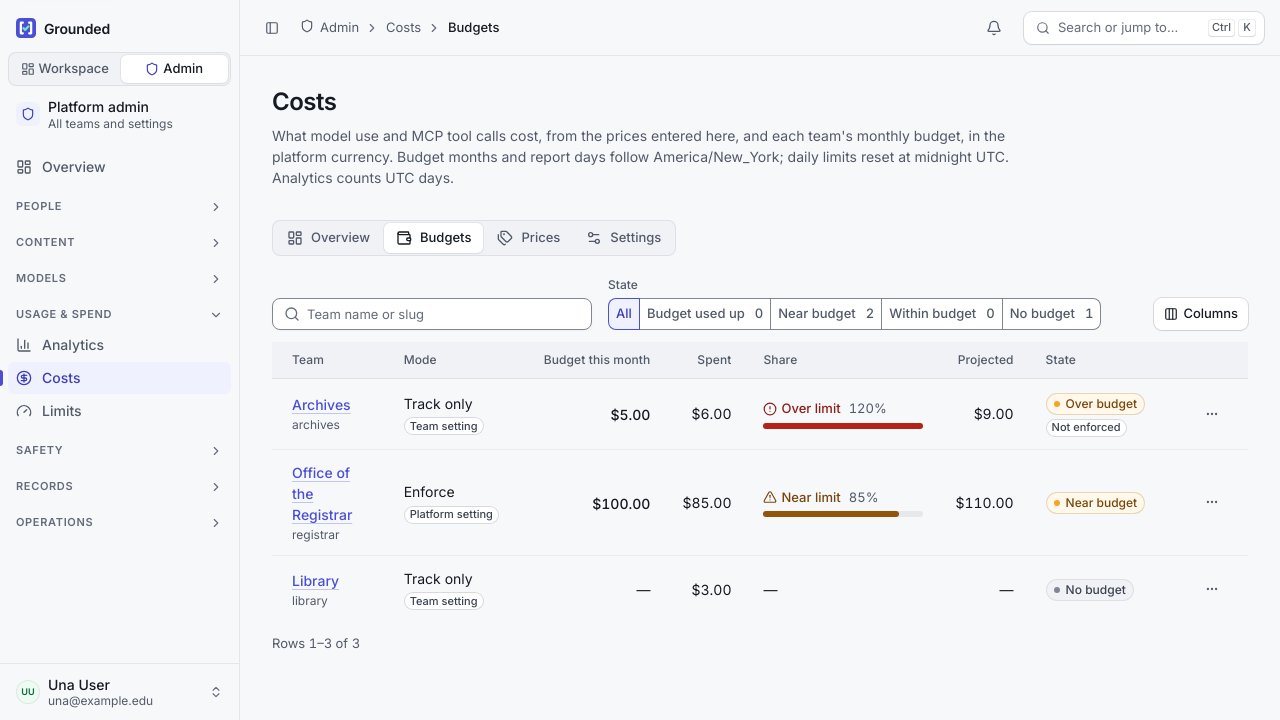
Test: Admin → Costs › changes a team's budget in place from its row, showing the platform default
The width and height of the screenshot is (1280, 720).
Step 1. Click the button named "Actions for Office of the Registrar" → (1212, 502), box [1196,486,1228,518]
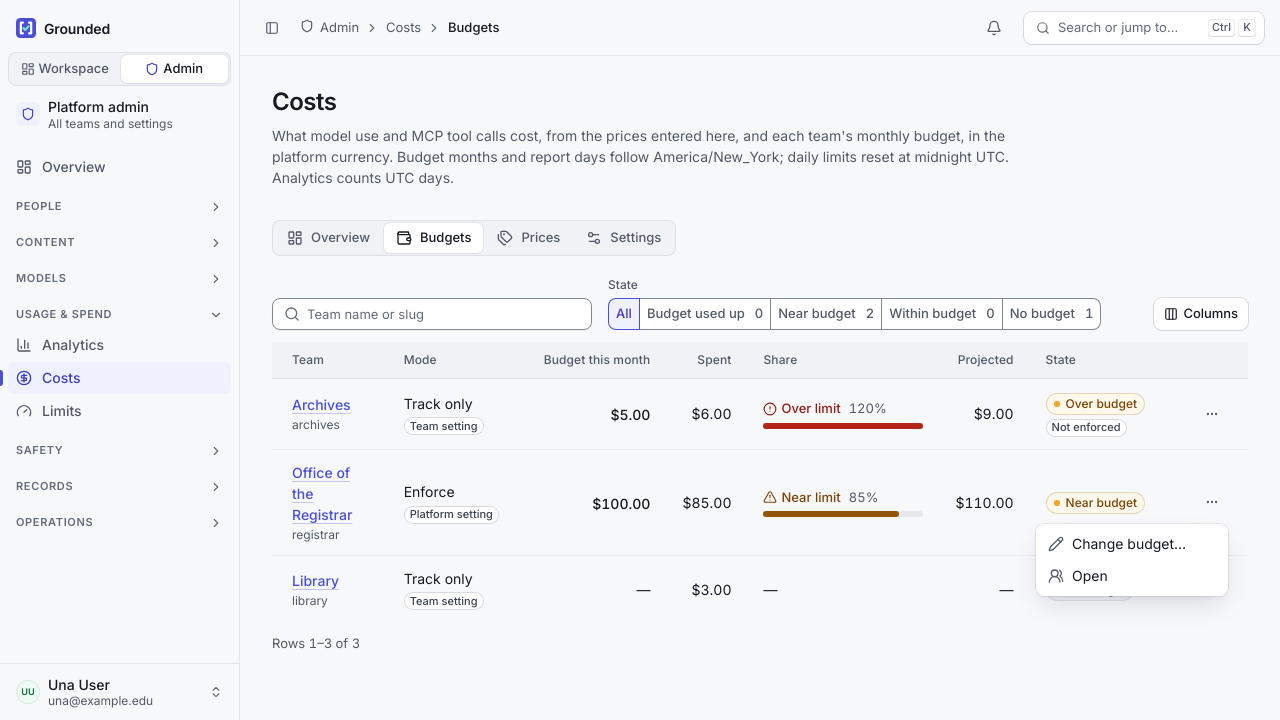
Step 2. Click the menu item "Change budget…" → (1117, 544), box [1048,535,1186,552]
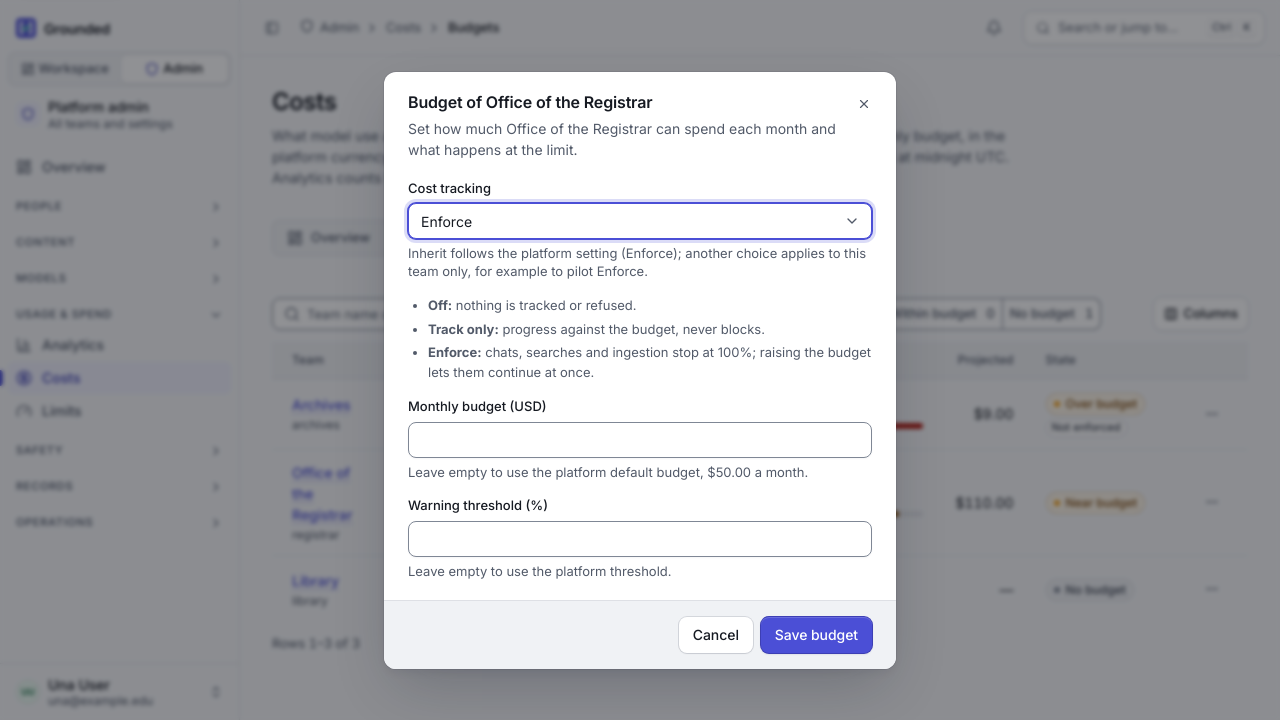
Step 3. Type "75" into the field labelled "Monthly budget (USD)" → (640, 440), box [408,422,872,458]
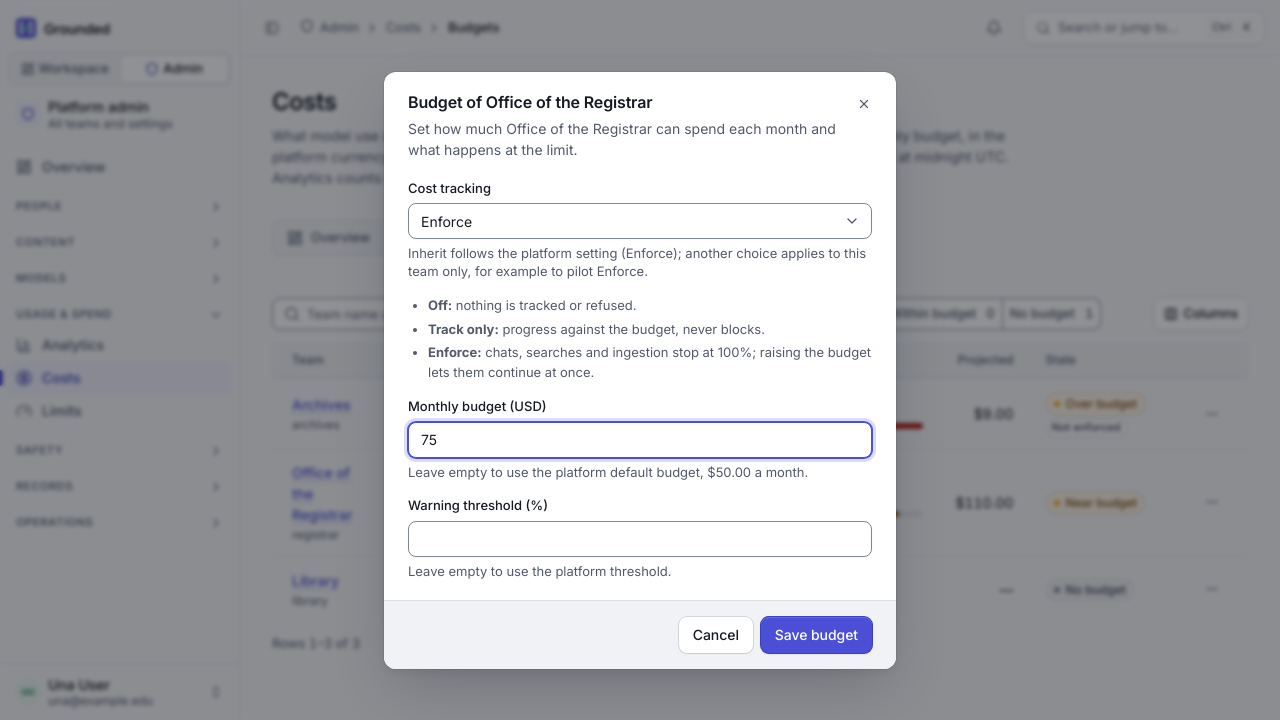
Step 4. Click the button "Save budget" → (816, 635), box [761,617,872,653]
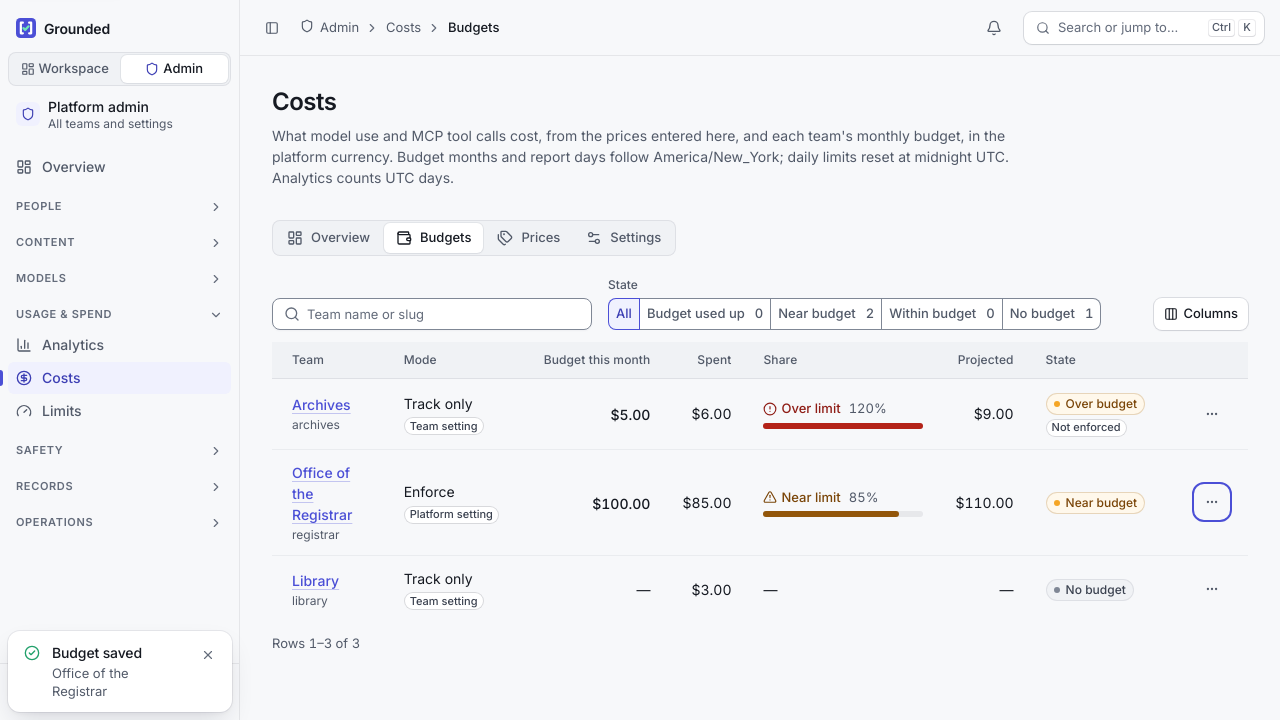
Expected: the table named "Budgets for September 2026" is shown, [272,342,1248,622]
Now the dialog is gone
